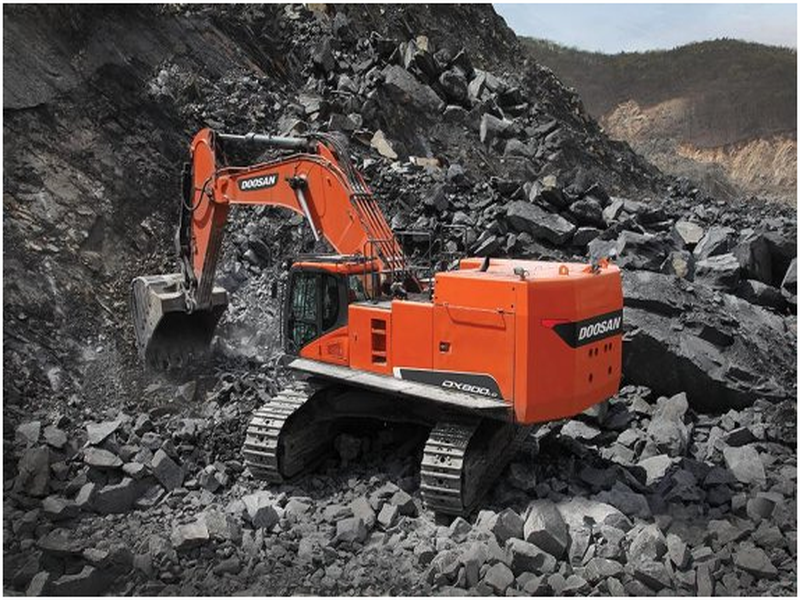shovel: (128, 119, 646, 531)
